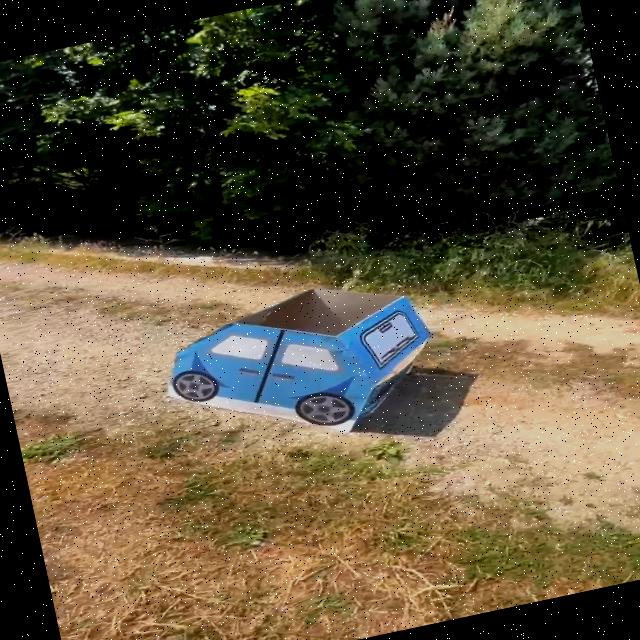blue_car: (141, 253, 468, 481)
